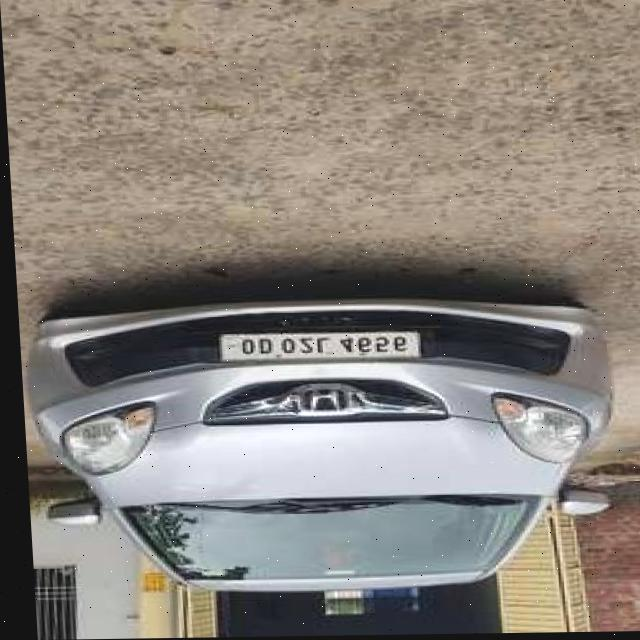plate: (213, 332, 415, 363)
